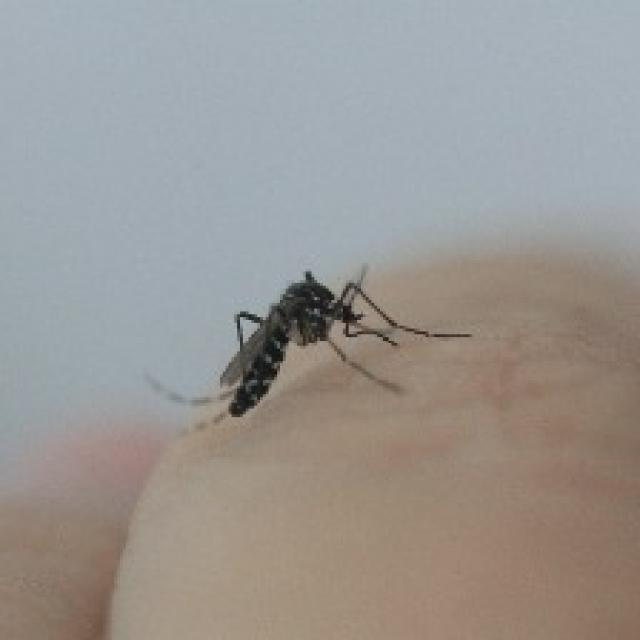aedes: (143, 260, 471, 420)
